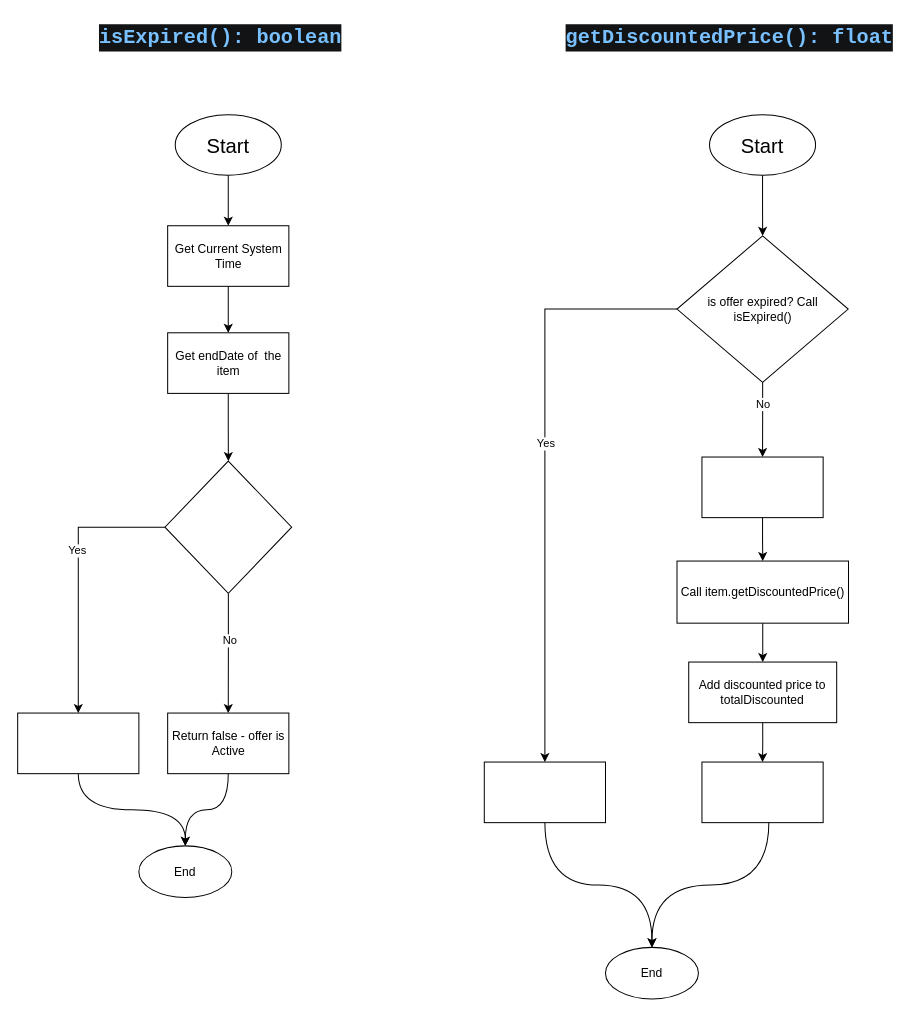
Some shapes in this 911 by 1016 pixel diagram are drawn without their labels. The shapes that lost their labels are listed below. From the top down, each one's centre as x and y in pixels, then its label:
point (762, 487): Intialize totalDiscounted = 0
point (228, 526): is current date > endDate?
point (78, 743): Return true - offer is Expired
point (544, 792): Return original price
point (762, 792): Return totalDiscount
